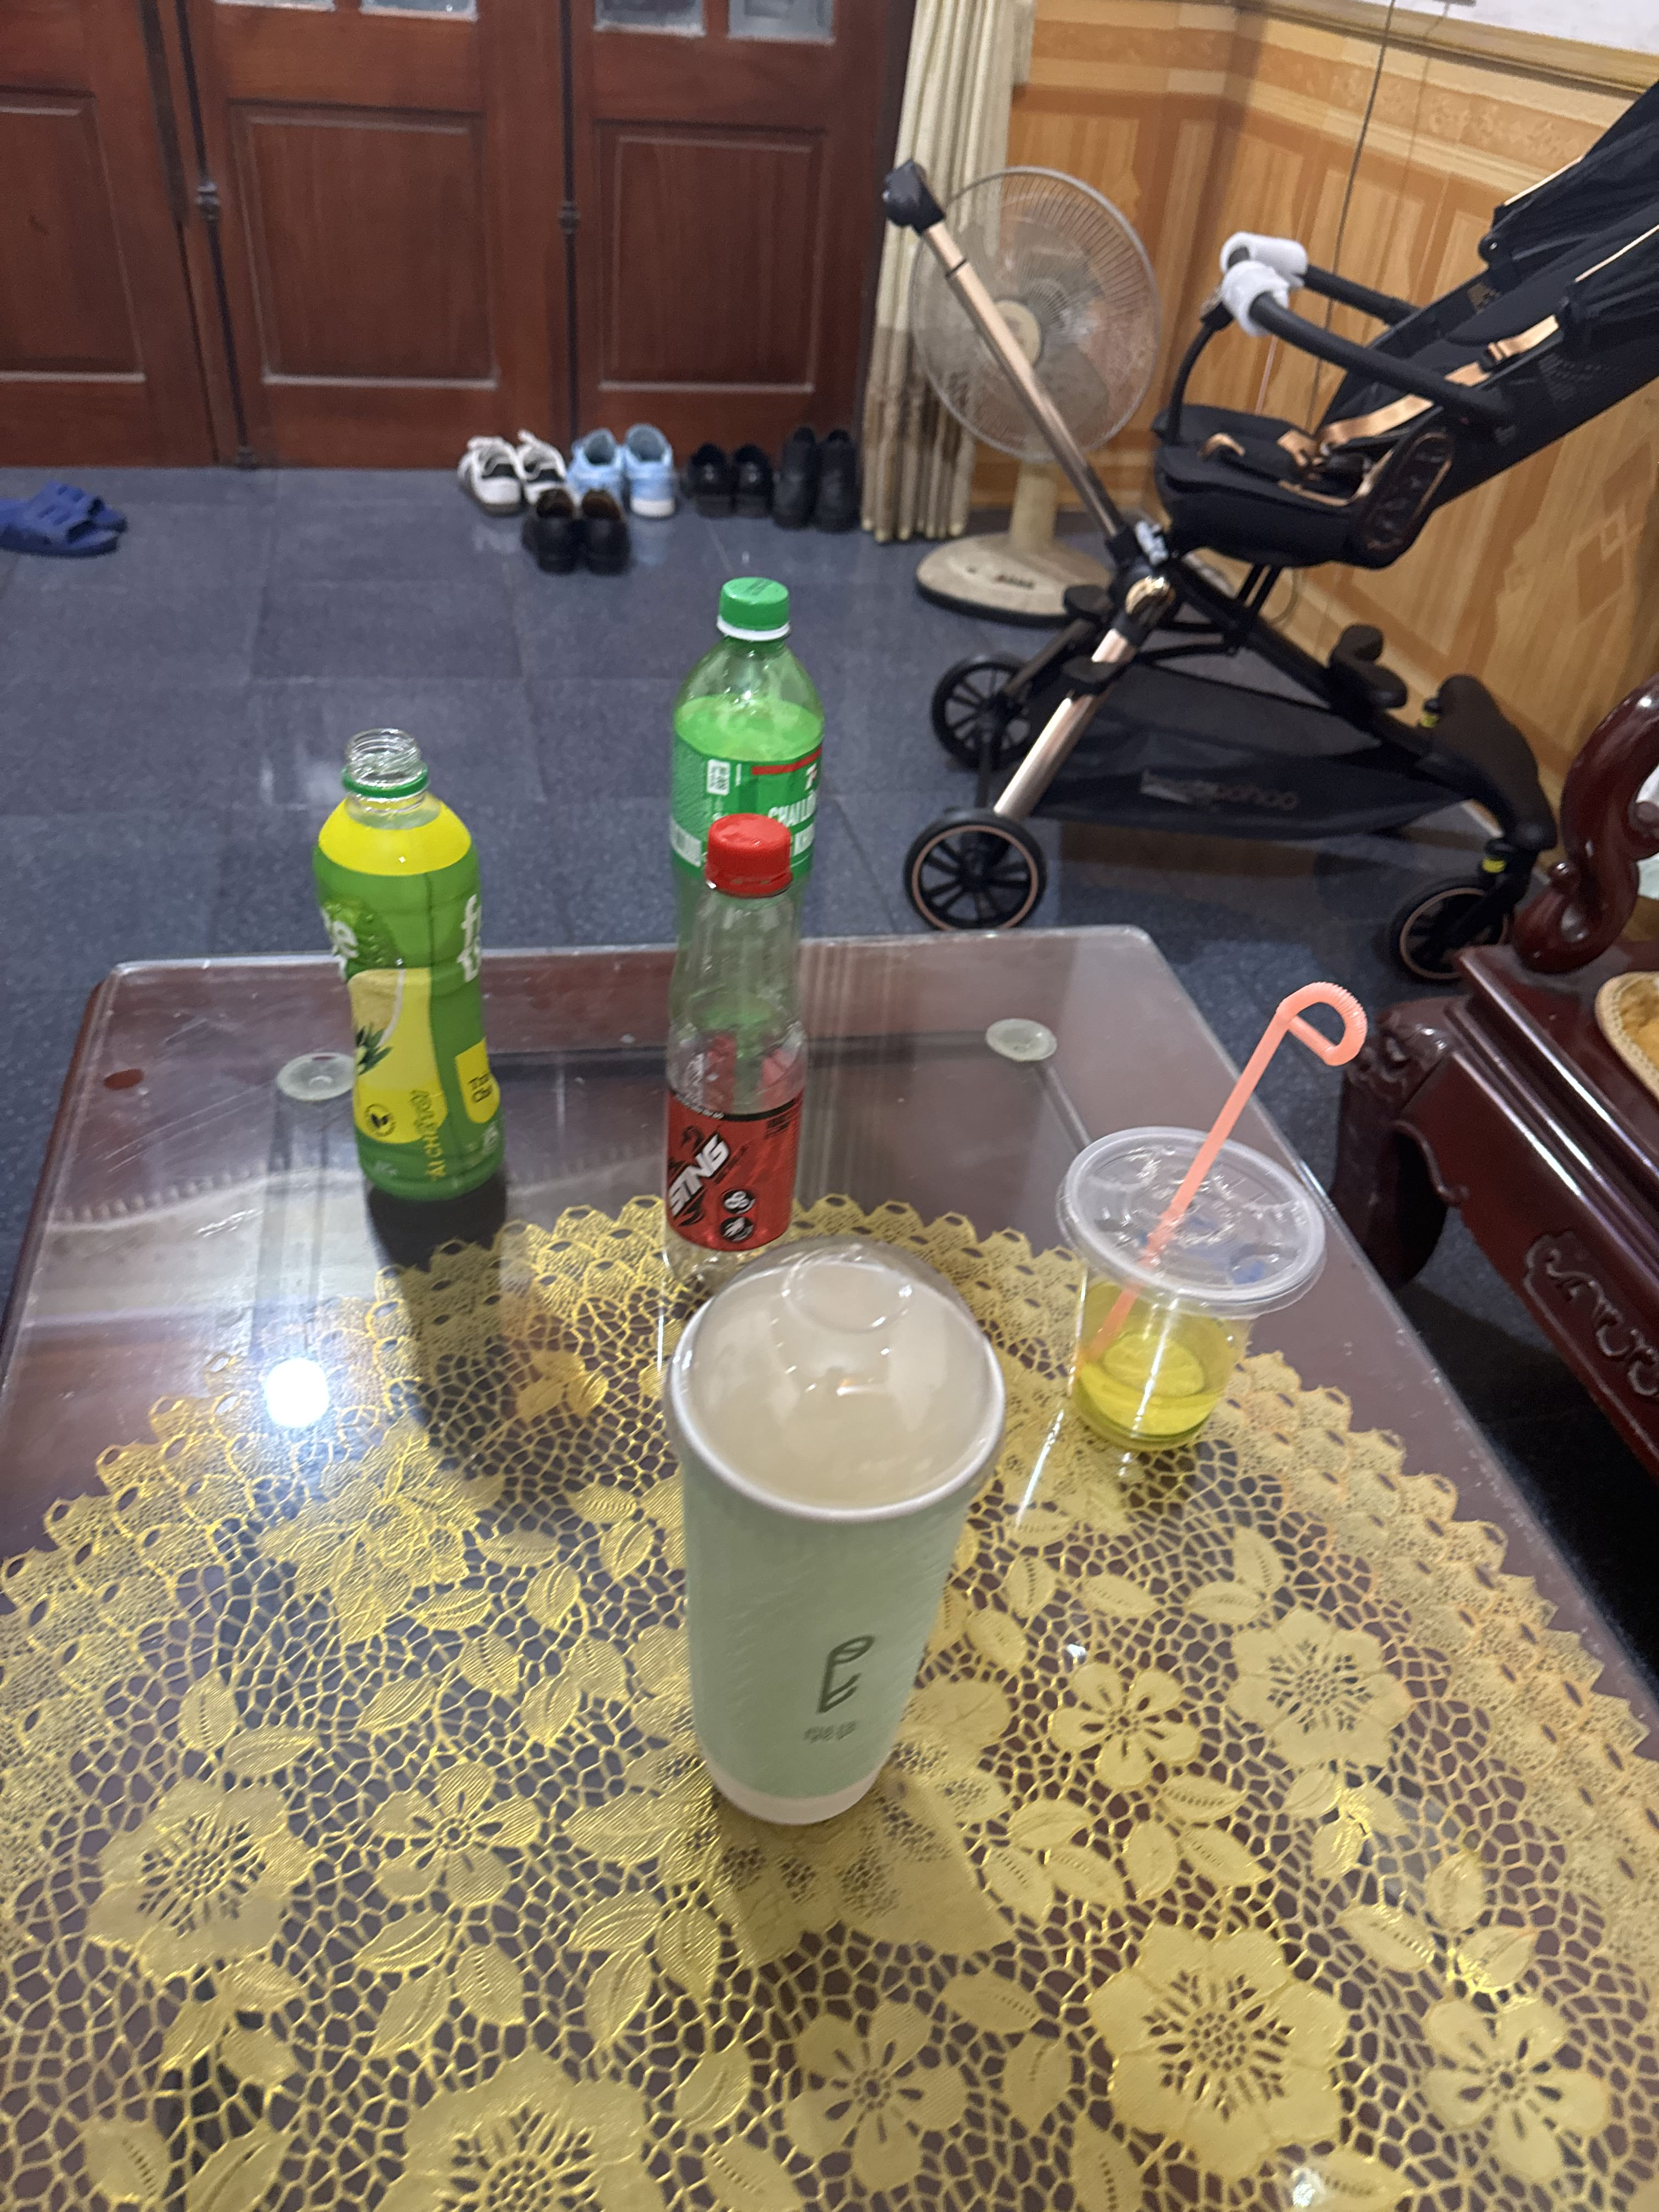2: (634, 1228, 1006, 1878), (1039, 1090, 1356, 1503)
bottle: (274, 695, 554, 1244), (622, 810, 831, 1308), (640, 570, 861, 972)
